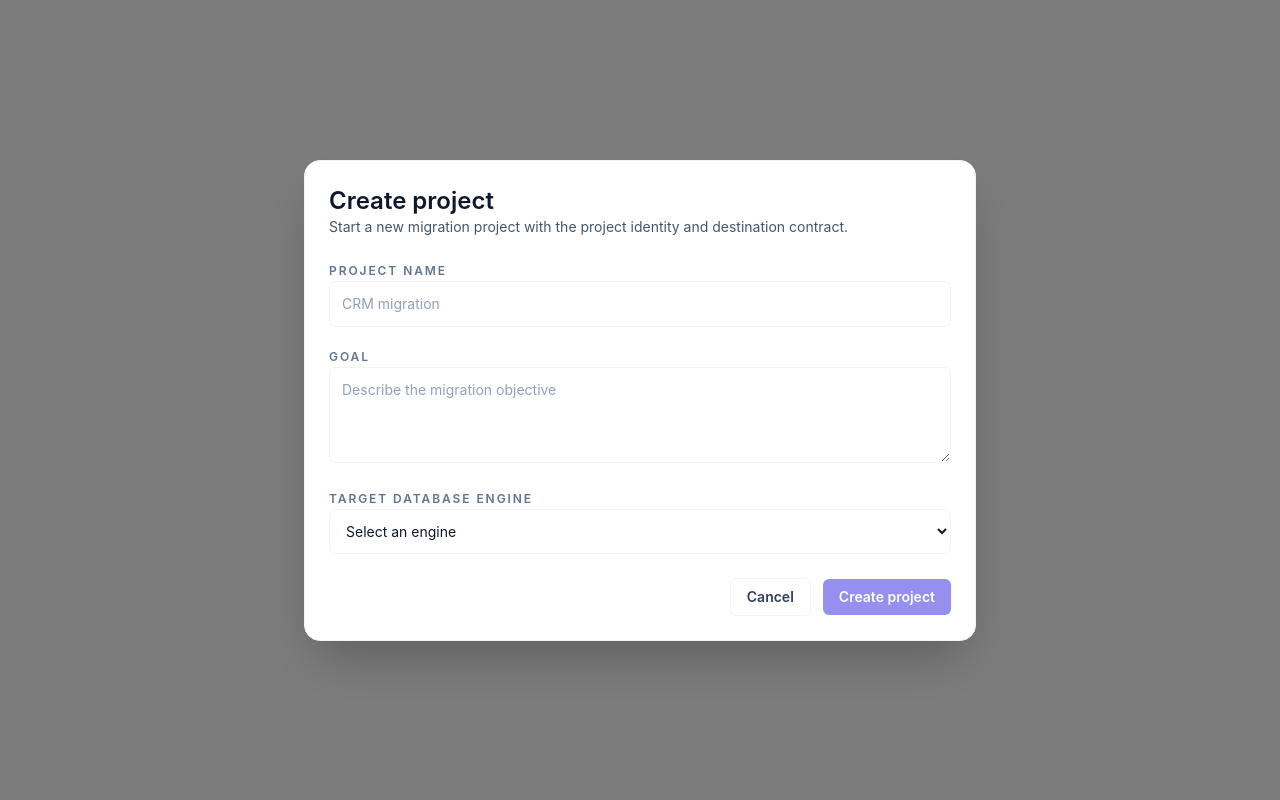
Scenario: CreateProjectDialog › keeps submit disabled until required fields are filled
The width and height of the screenshot is (1280, 800).
expect the button "Create project" is disabled: met, box [823, 578, 951, 614]
Type "New Project" into the field labelled "Project name" at (640, 304), box [329, 280, 951, 326]
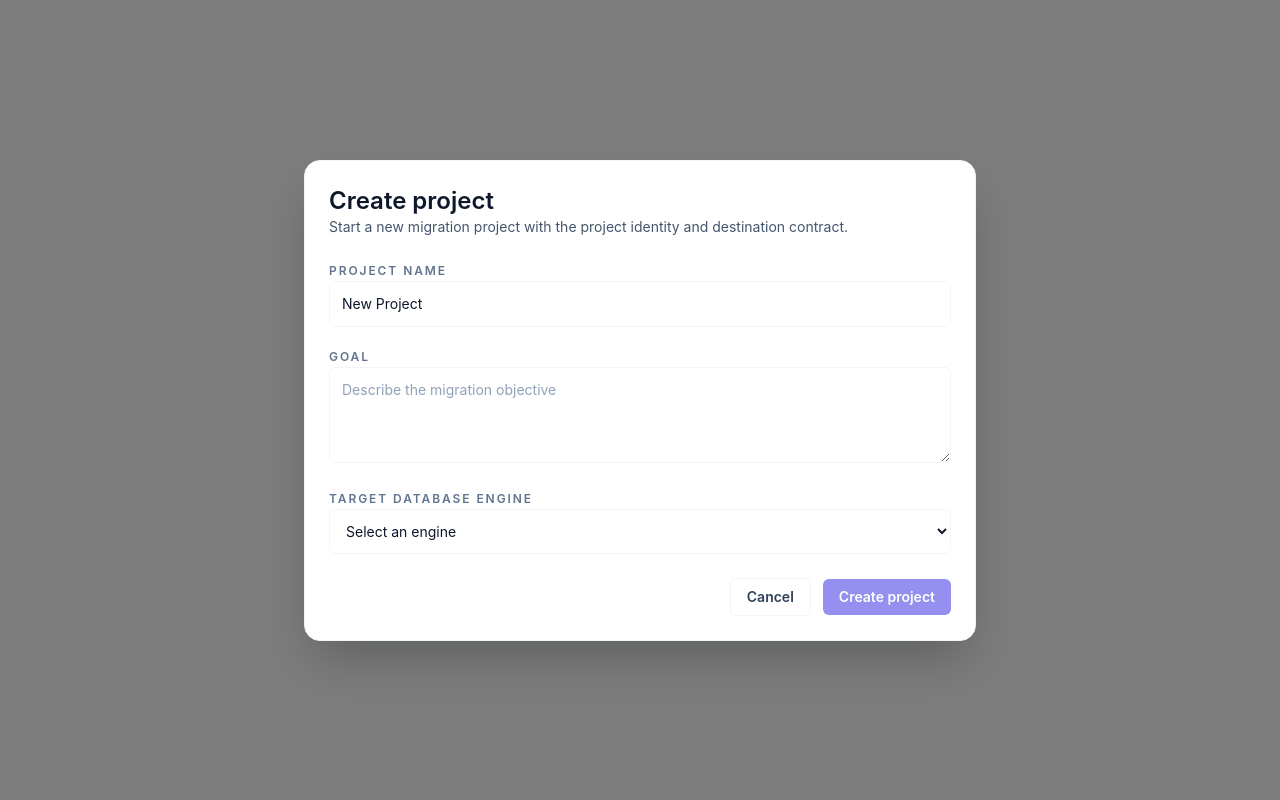
expect the button "Create project" is disabled: met, box [823, 578, 951, 614]
Select "mssql" in the dropdown labelled "Target database engine" at (640, 531), box [329, 508, 951, 554]
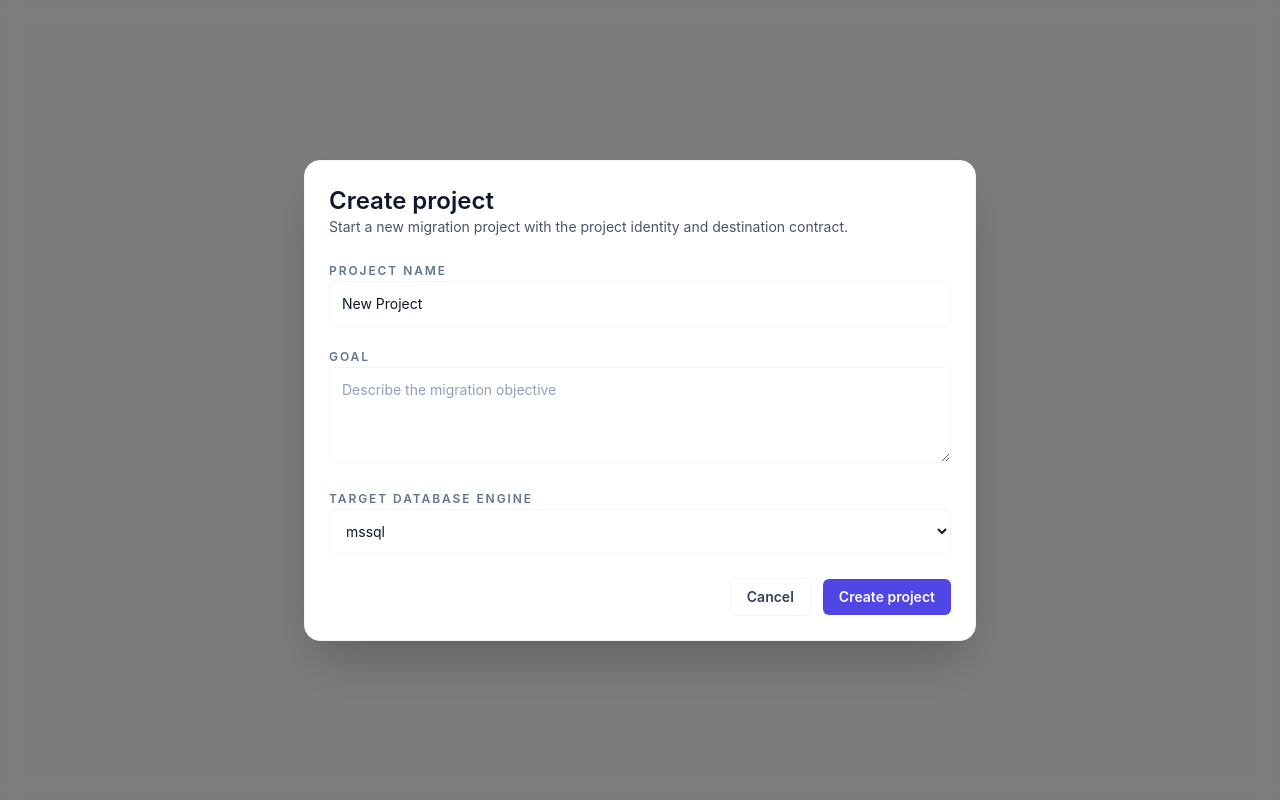
expect the button "Create project" is enabled: met, box [823, 578, 951, 614]
